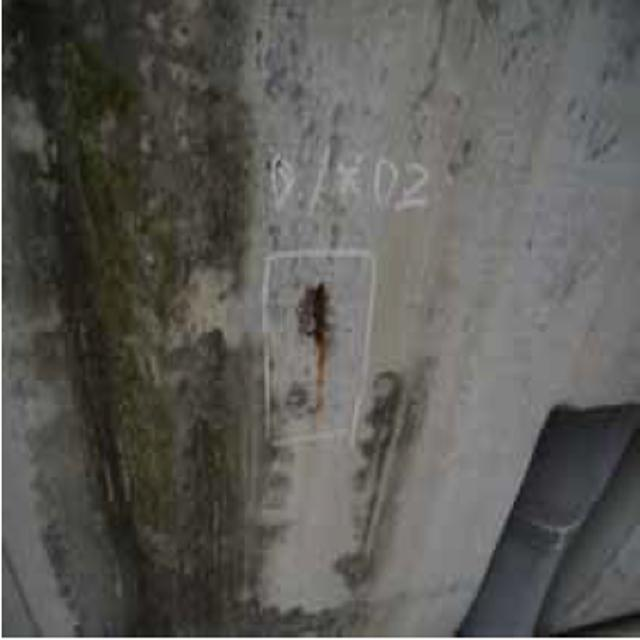spalling: (267, 242, 366, 424)
